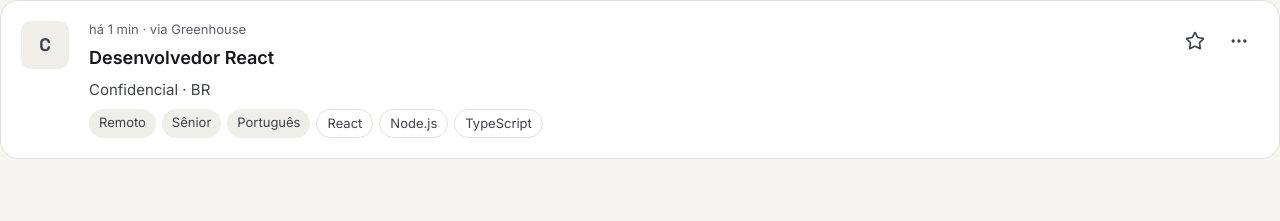
Scenario: JobCard › empresa confidencial não ganha o link do Glassdoor
The width and height of the screenshot is (1280, 221).
Press Enter in the button named "Mais ações", box [1219,21,1259,61]
Click the button named "Mais ações" at (1239, 41), box [1219,21,1259,61]
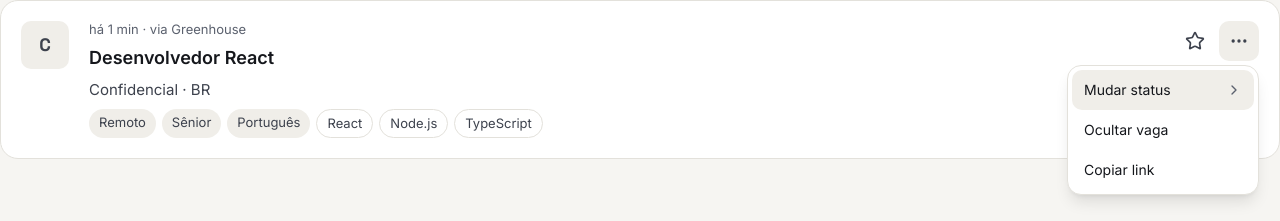
Expected: the menu is shown, [1067,65,1259,195]
